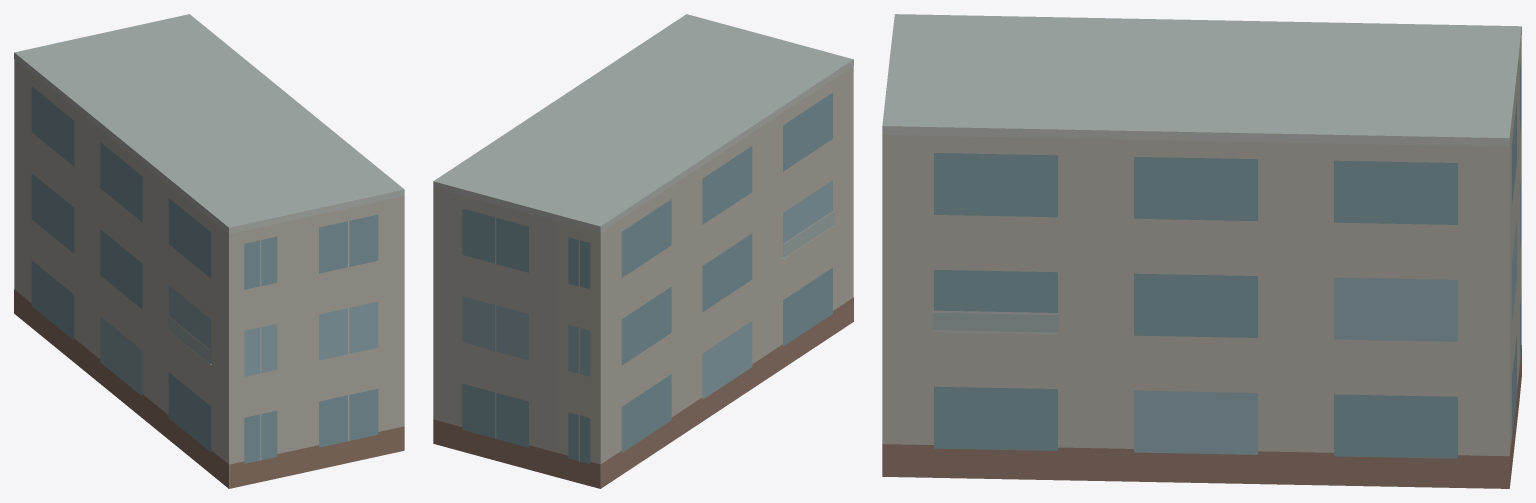
Rendered from survey-upis-32775143.glb.
3 views of the same model, side by side, from view 1: azimuth 30°, elevation 25°; view 2: azimuth 150°, elevation 25°; view 3: azimuth 270°, elevation 25° (orthographic). The views are drawn at different scales.
Parts seen in each view (by area): view 1: survey-upis-32775143.tmp; view 2: survey-upis-32775143.tmp; view 3: survey-upis-32775143.tmp.
Boxes of the visible parts, box(x1,y1,x2,y2) form: survey-upis-32775143.tmp: box(14, 14, 404, 488); survey-upis-32775143.tmp: box(433, 14, 853, 488); survey-upis-32775143.tmp: box(882, 14, 1521, 488).
Bounding box in the file's own units: 7.53 × 9.9 × 16.37.
